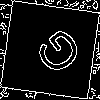G: (25, 25, 86, 84)
